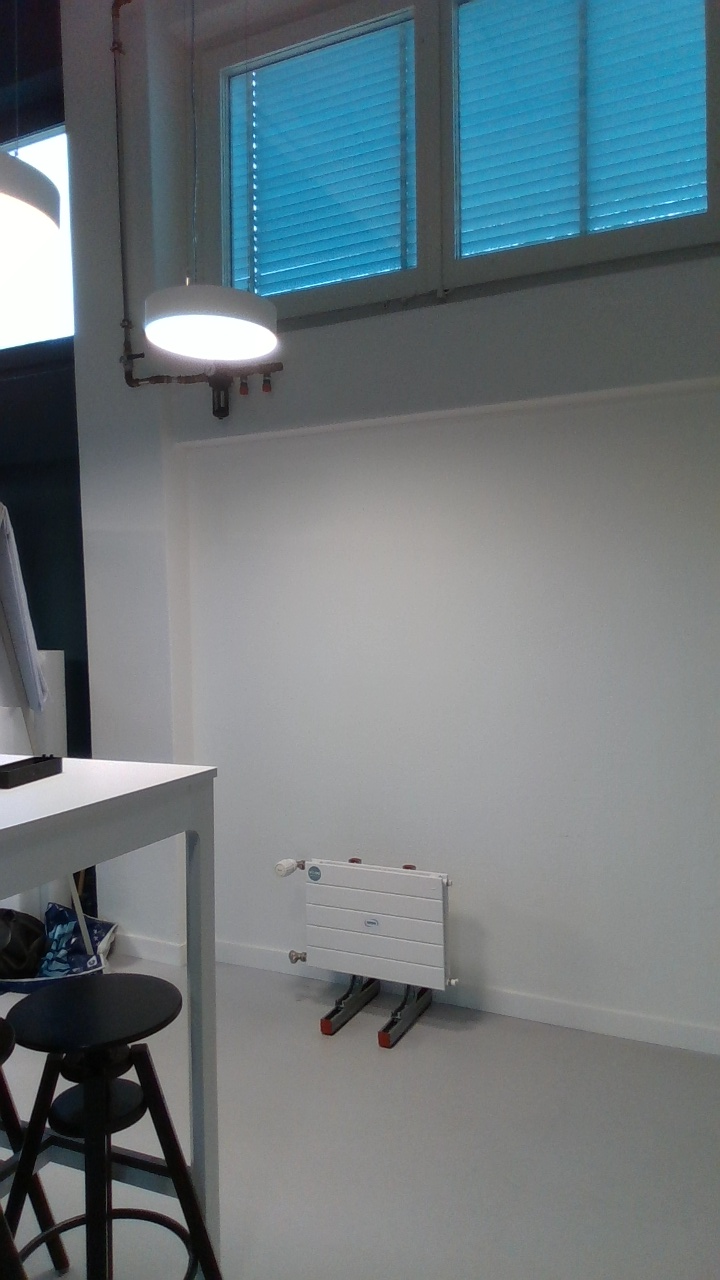Radiator: (297, 855, 465, 997)
